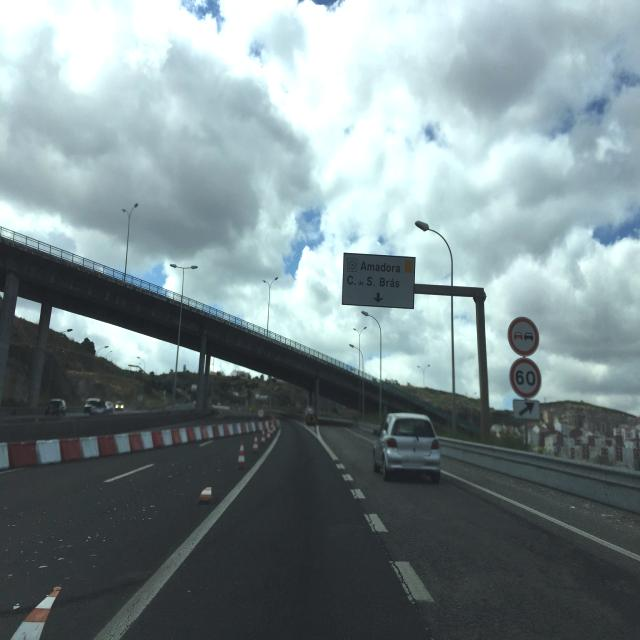car: (372, 412, 441, 483), (84, 398, 114, 414), (44, 398, 66, 416), (83, 397, 103, 413)
